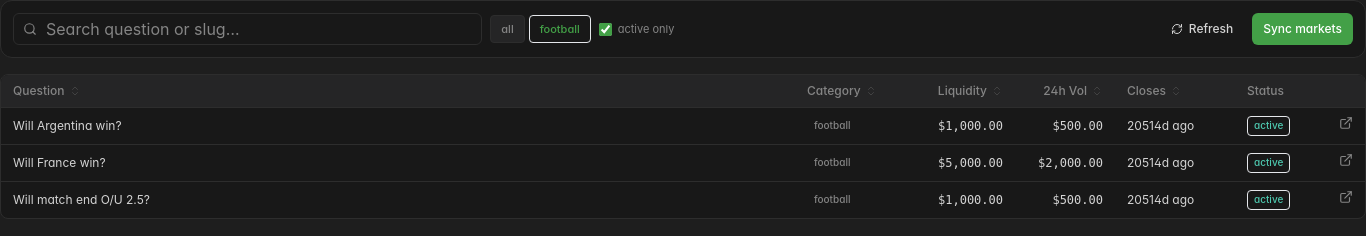
Test case: Markets (v0.65d expand + v0.119 football-only) › search input filters the table client-side (after 200ms debounce)
Check: the link "Will Argentina win?" is shown, box [13, 118, 122, 132]
Type "France" into the field with placeholder "Search question or slug…" at point(248, 29), box [13, 13, 482, 45]
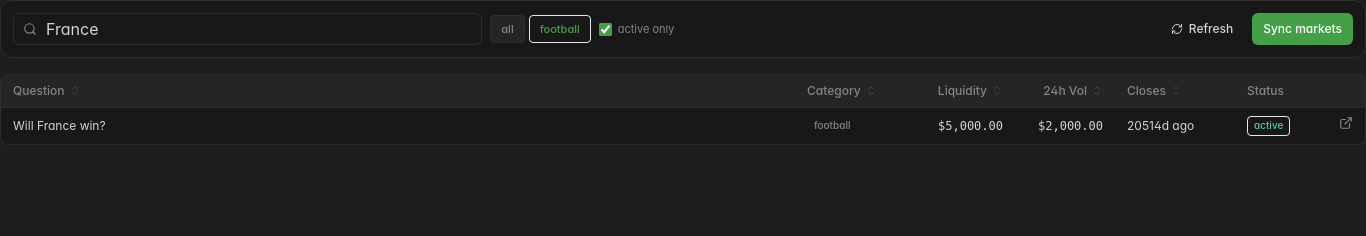
Check: the link "Will France win?" is shown, box [13, 118, 106, 132]
Check: the link "Argentina" is gone
